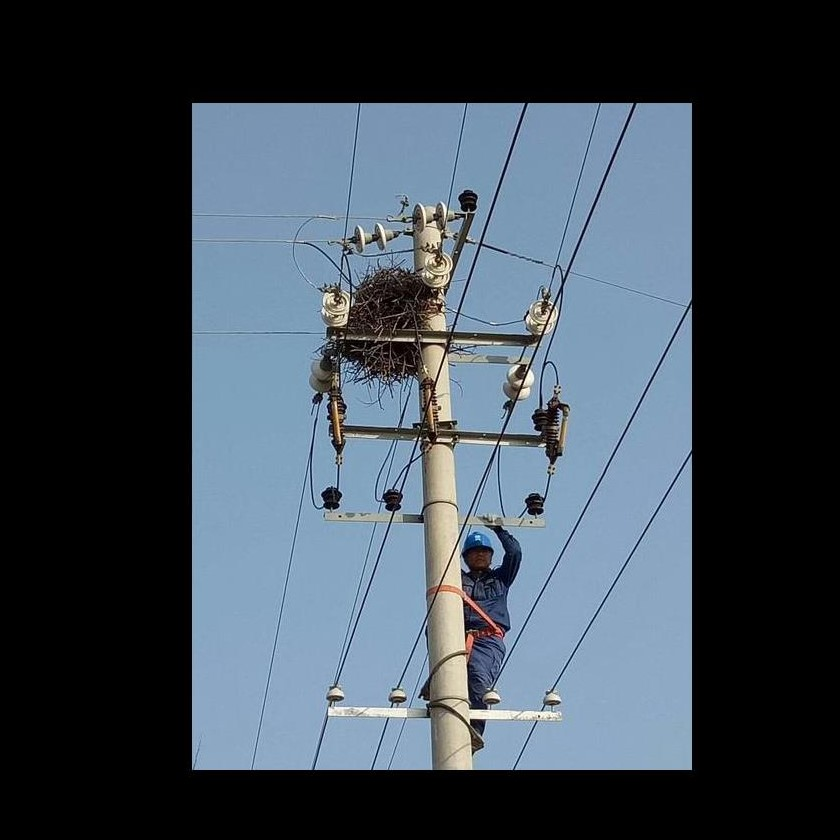niaowo: (332, 261, 446, 392)
